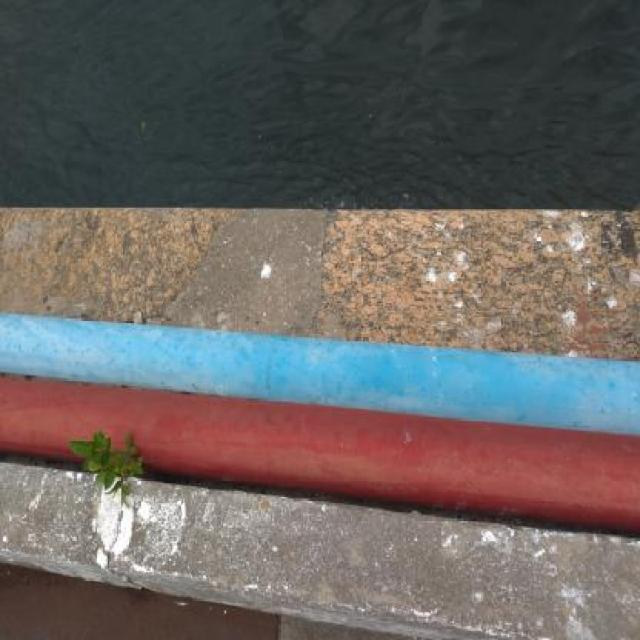gas: (2, 377, 637, 531), (5, 314, 637, 436)
